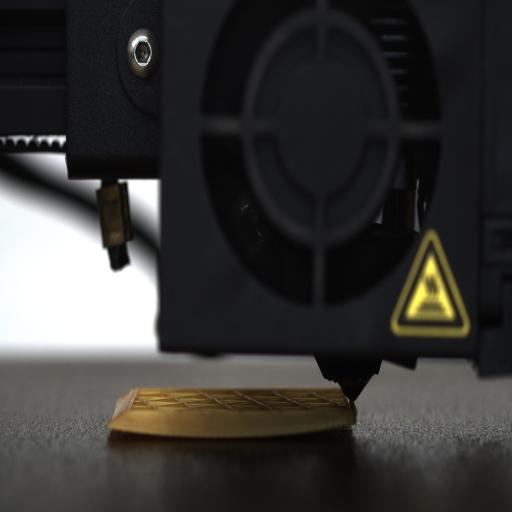warp: (110, 421, 334, 440)
